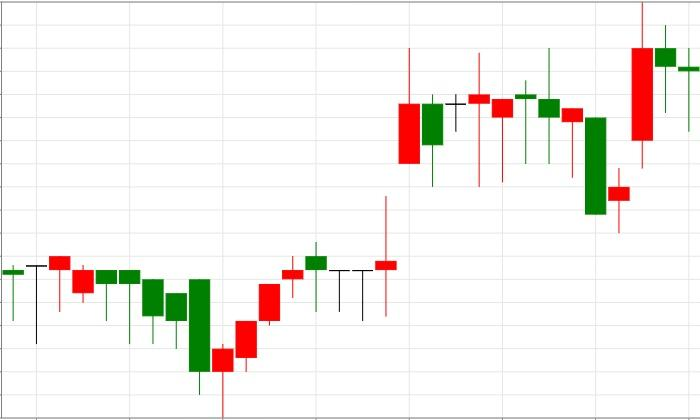three_white_soldiers_rise: (48, 256, 281, 417)
